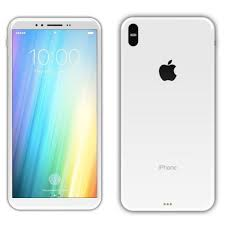iphone: (3, 12, 106, 210), (114, 10, 215, 211)
iphone10: (3, 13, 106, 211), (116, 12, 217, 213)
